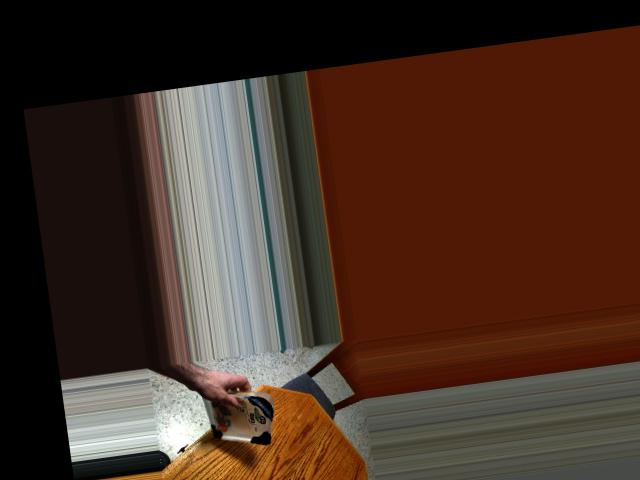cheese: (194, 387, 281, 448)
